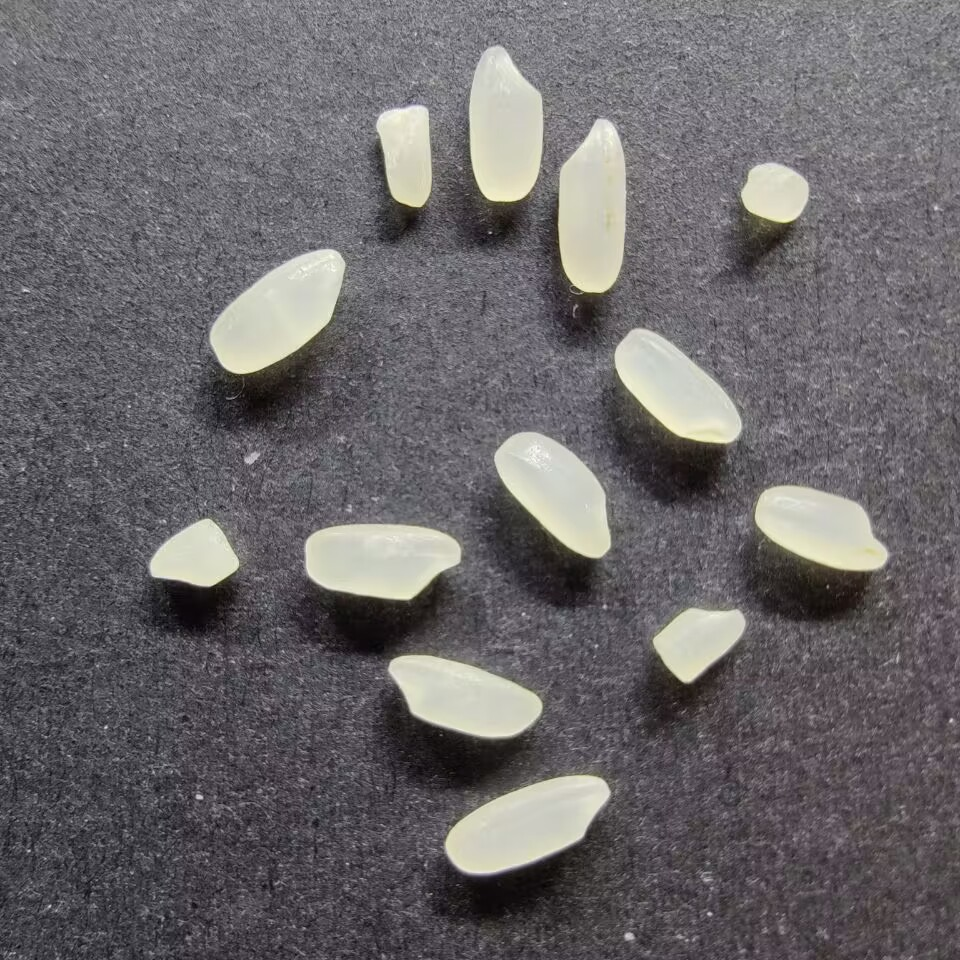broken: (650, 605, 748, 686), (144, 516, 242, 589), (371, 104, 436, 208), (737, 156, 809, 227)
rice: (205, 245, 348, 376), (443, 773, 614, 877), (494, 429, 615, 559), (613, 325, 744, 445), (388, 653, 544, 740), (554, 115, 628, 295), (465, 44, 545, 204), (301, 523, 462, 602), (754, 482, 891, 574)
